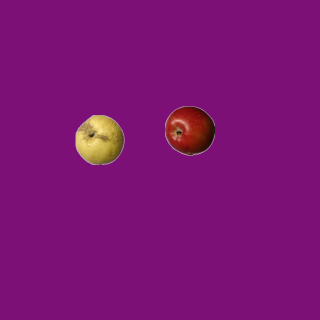Apple Braeburn: (164, 105, 214, 155)
Apple Golden 1: (74, 114, 124, 164)
